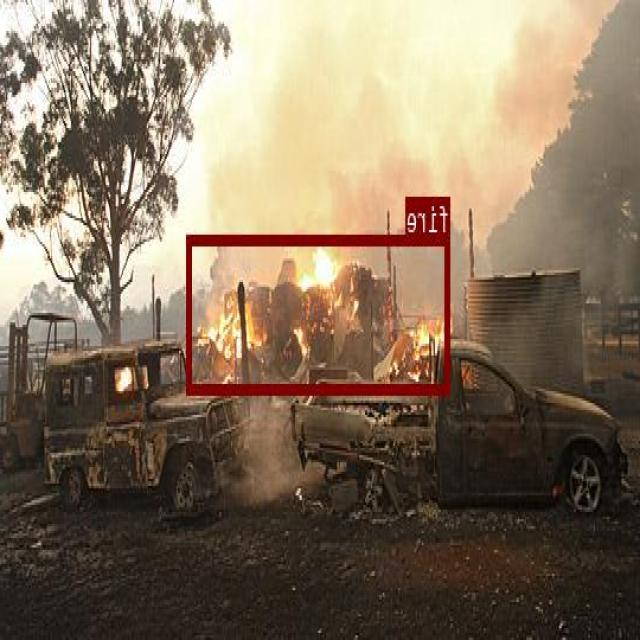fire: (188, 234, 451, 392)
